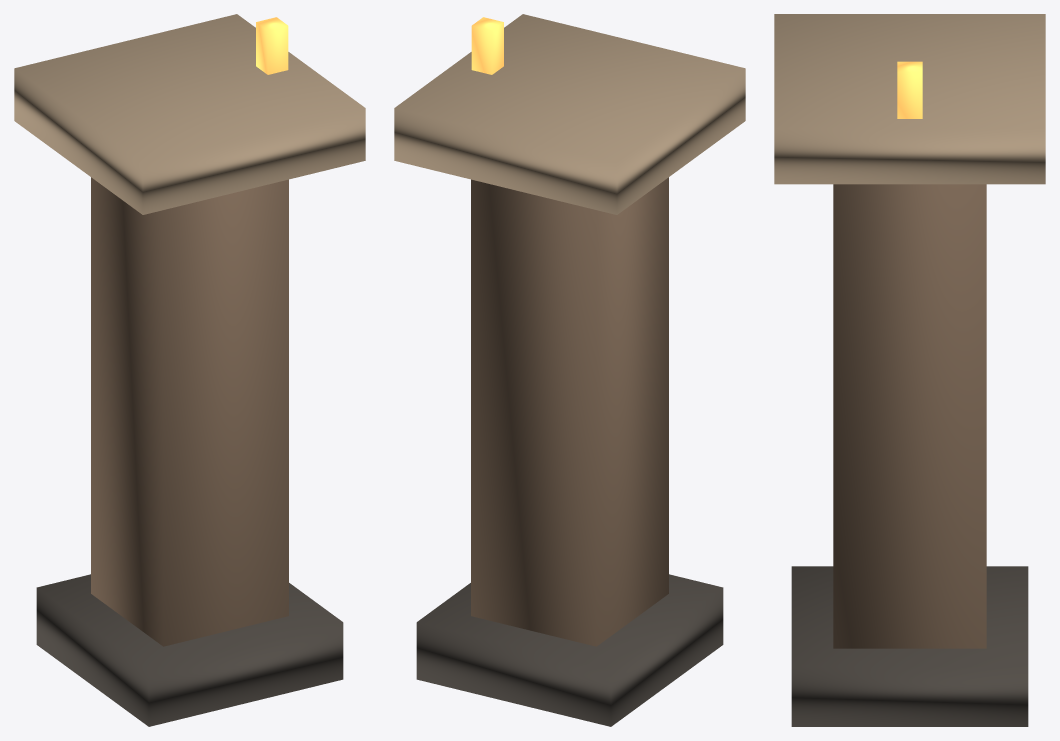
Rendered from jovian-harvester-skimmer-tower-lod2.glb.
The picture shows the model from 3 angles, left to right: view 1: azimuth 30°, elevation 25°; view 2: azimuth 150°, elevation 25°; view 3: azimuth 270°, elevation 25°; orthographic projection. The views are drawn at different scales.
Visible parts, largest first — view 1: jovian-harvester-skimmer-tower-spine, jovian-harvester-skimmer-tower-crown, jovian-harvester-skimmer-tower-foot, jovian-harvester-skimmer-tower-beacon; view 2: jovian-harvester-skimmer-tower-spine, jovian-harvester-skimmer-tower-crown, jovian-harvester-skimmer-tower-foot, jovian-harvester-skimmer-tower-beacon; view 3: jovian-harvester-skimmer-tower-spine, jovian-harvester-skimmer-tower-crown, jovian-harvester-skimmer-tower-foot, jovian-harvester-skimmer-tower-beacon.
Part boxes in pixels (left/top/right/bottom): jovian-harvester-skimmer-tower-spine: left=91, top=177, right=288, bottom=646; jovian-harvester-skimmer-tower-crown: left=14, top=14, right=365, bottom=214; jovian-harvester-skimmer-tower-foot: left=36, top=574, right=343, bottom=726; jovian-harvester-skimmer-tower-beacon: left=256, top=17, right=288, bottom=74; jovian-harvester-skimmer-tower-spine: left=471, top=177, right=668, bottom=646; jovian-harvester-skimmer-tower-crown: left=394, top=14, right=745, bottom=214; jovian-harvester-skimmer-tower-foot: left=416, top=574, right=723, bottom=726; jovian-harvester-skimmer-tower-beacon: left=471, top=17, right=503, bottom=74; jovian-harvester-skimmer-tower-spine: left=833, top=184, right=986, bottom=648; jovian-harvester-skimmer-tower-crown: left=774, top=14, right=1045, bottom=184; jovian-harvester-skimmer-tower-foot: left=791, top=566, right=1028, bottom=726; jovian-harvester-skimmer-tower-beacon: left=897, top=61, right=922, bottom=118.
Bounding box in the file's own units: 1.95 × 5.17 × 1.95.
